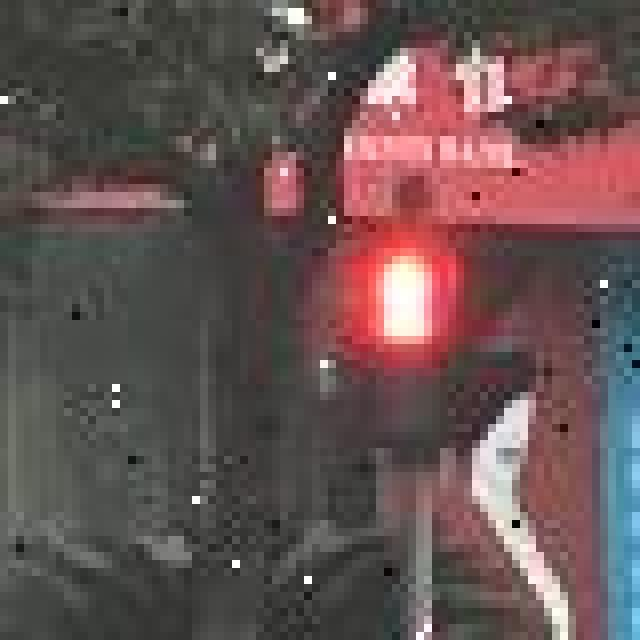redlight: (350, 251, 471, 484)
